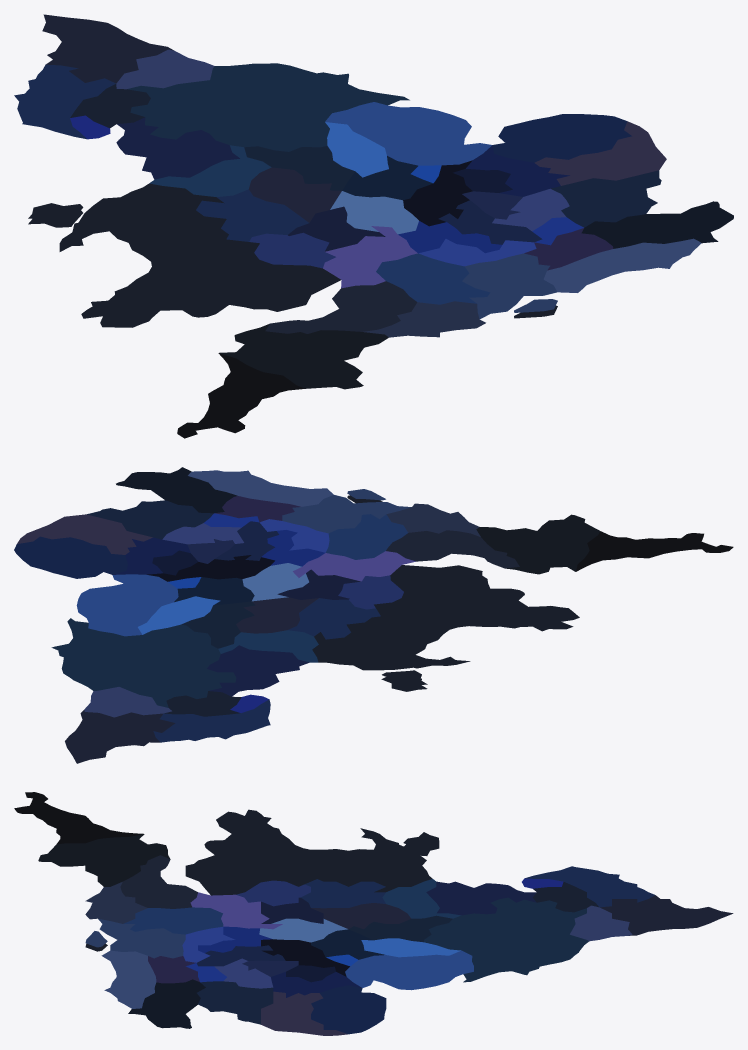
The model's file is Map.FBX.
3 views of the same model, one above another, from view 1: azimuth 30°, elevation 25°; view 2: azimuth 150°, elevation 25°; view 3: azimuth 270°, elevation 25° (orthographic). The views are drawn at different scales.
Parts seen in each view (by area): view 1: Wales, Yorkshire, Devon, Lincolnshire, Northumberland, Norfolk, Lancashire, Somerset, Hampshire, Kent, Cumberland, Cornwall (+27 smaller); view 2: Wales, Yorkshire, Devon, Lincolnshire, Northumberland, Norfolk, Lancashire, Hampshire, Somerset, Kent, Cumberland, Cornwall (+27 smaller); view 3: Wales, Yorkshire, Devon, Lincolnshire, Northumberland, Norfolk, Lancashire, Hampshire, Somerset, Kent, Cornwall, Cumberland (+27 smaller).
Boxes of the visible parts, left/top/right/bottom form: Wales: left=28, top=183, right=340, bottom=327; Yorkshire: left=127, top=63, right=409, bottom=151; Devon: left=219, top=323, right=388, bottom=389; Lincolnshire: left=325, top=102, right=491, bottom=165; Northumberland: left=42, top=14, right=173, bottom=83; Norfolk: left=492, top=114, right=631, bottom=162; Lancashire: left=116, top=117, right=239, bottom=179; Somerset: left=265, top=281, right=417, bottom=333; Hampshire: left=462, top=253, right=557, bottom=319; Kent: left=581, top=201, right=733, bottom=248; Cumberland: left=14, top=64, right=115, bottom=139; Cornwall: left=177, top=353, right=304, bottom=438; Wales: left=312, top=565, right=579, bottom=687; Yorkshire: left=51, top=618, right=236, bottom=707; Devon: left=476, top=514, right=600, bottom=574; Lincolnshire: left=76, top=574, right=178, bottom=636; Northumberland: left=65, top=710, right=175, bottom=763; Norfolk: left=14, top=536, right=127, bottom=578; Lancashire: left=207, top=645, right=309, bottom=696; Hampshire: left=282, top=489, right=411, bottom=533; Somerset: left=386, top=530, right=519, bottom=568; Kent: left=116, top=467, right=237, bottom=513; Cumberland: left=153, top=699, right=270, bottom=742; Cornwall: left=576, top=531, right=733, bottom=571; Wales: left=185, top=809, right=439, bottom=895; Yorkshire: left=424, top=897, right=589, bottom=982; Devon: left=38, top=834, right=170, bottom=886; Lincolnshire: left=345, top=950, right=473, bottom=990; Northumberland: left=600, top=895, right=733, bottom=935; Norfolk: left=311, top=985, right=386, bottom=1034; Lancashire: left=426, top=881, right=536, bottom=915; Hampshire: left=85, top=919, right=185, bottom=958; Somerset: left=120, top=855, right=197, bottom=908; Kent: left=128, top=979, right=205, bottom=1028; Cornwall: left=14, top=792, right=143, bottom=844; Cumberland: left=525, top=866, right=654, bottom=907.
Bounding box in the file's own units: 471 × 3.73 × 588.
